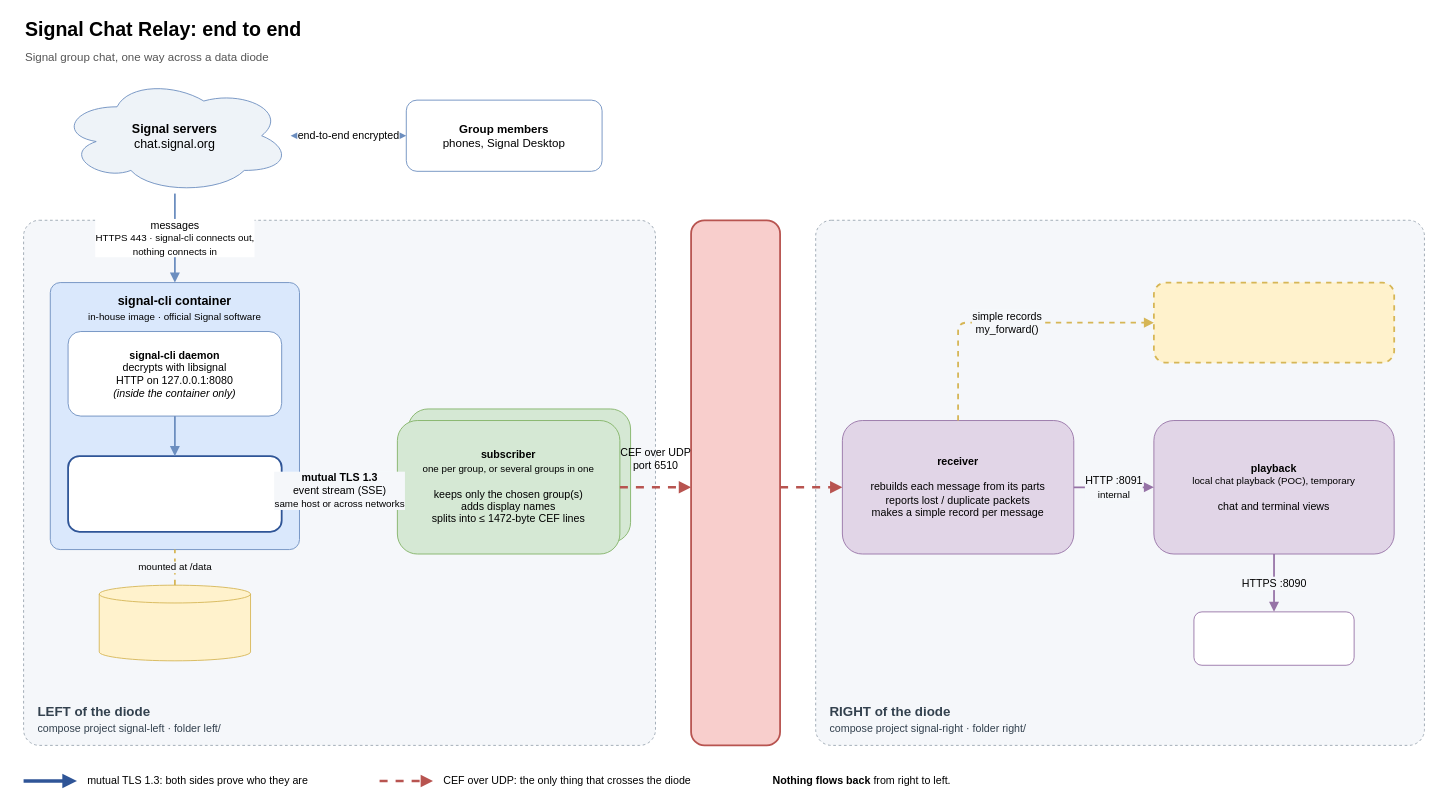
Image size: 1440x809. Some labels were removed from this diagram. The centre of each missing label's shape, as x and y in pixels:
"Browser" belongs at point 1273,638.
"DATA DIODE one way only" belongs at point 735,482.
"External platform Palantir (planned)" belongs at point 1274,322.
"left/signal-data the account's keys" belongs at point 174,622.
"TLS gateway :8443 mutual TLS 1.3 read-only allowlist (no send)" belongs at point 174,493.
